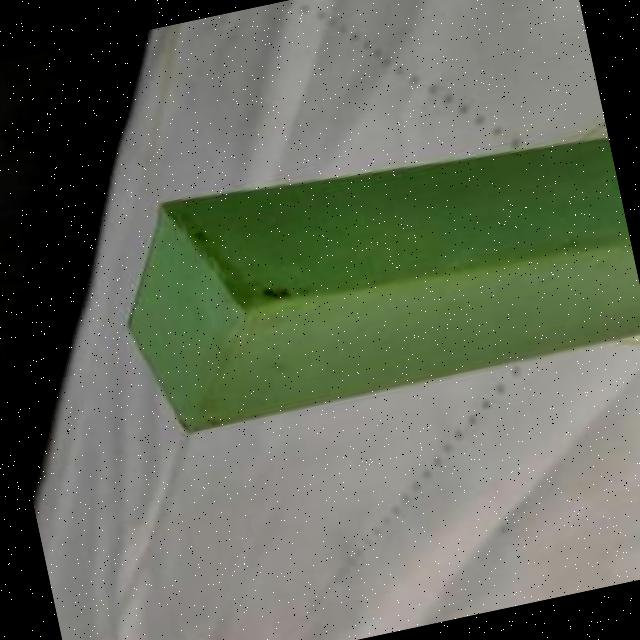greenbox: (98, 104, 640, 446)
